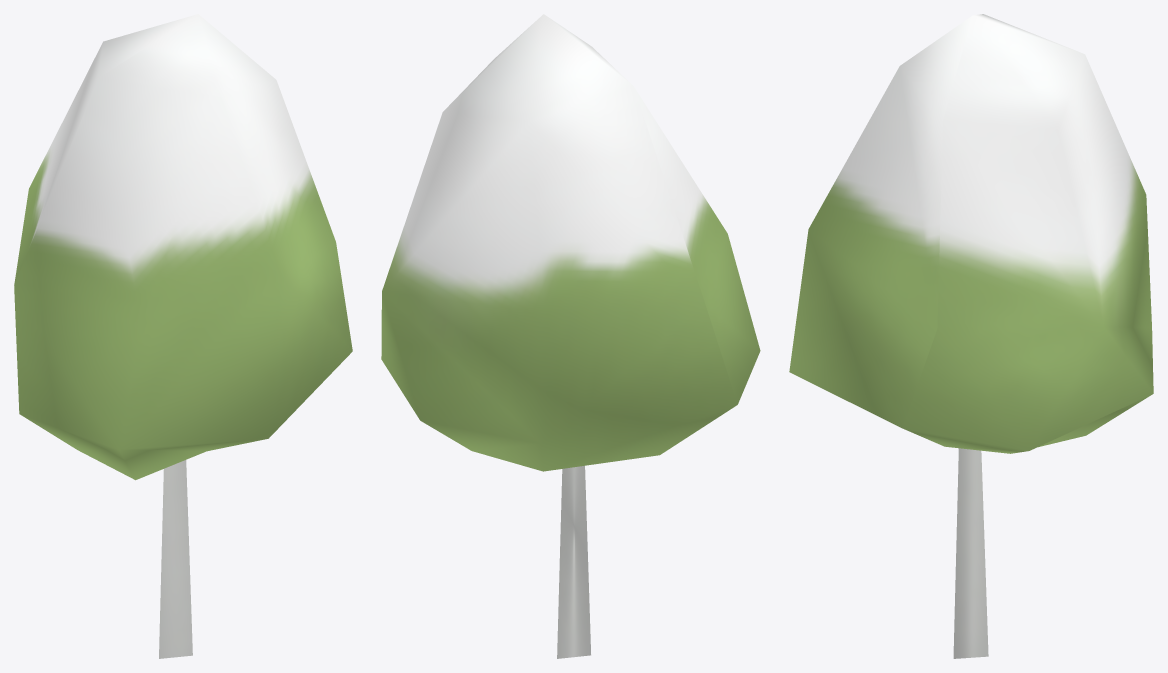
The picture shows the model from 3 angles, left to right: view 1: azimuth 30°, elevation 25°; view 2: azimuth 150°, elevation 25°; view 3: azimuth 270°, elevation 25°; orthographic projection. The views are drawn at different scales.
Parts seen in each view (by area): view 1: wLODBerez; view 2: wLODBerez; view 3: wLODBerez.
Boxes of the visible parts, box(x1,y1,x2,y2) form: wLODBerez: box(14, 14, 352, 658); wLODBerez: box(381, 14, 760, 658); wLODBerez: box(789, 14, 1153, 658).
Bounding box in the file's own units: 10.54 × 19.86 × 10.06.
Materials: 1 (1 with a texture image).
